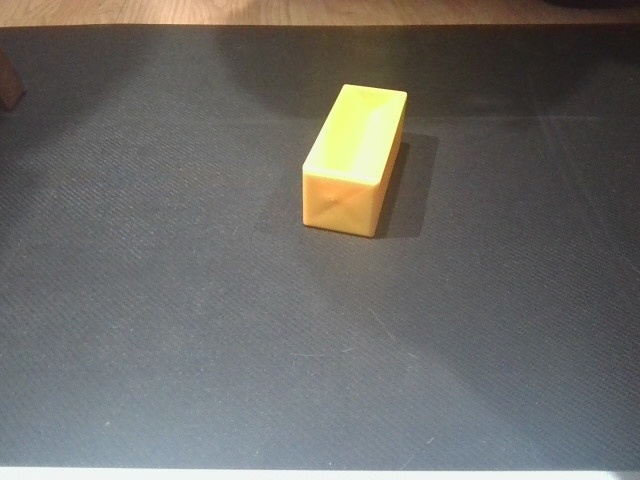YellowSample: (299, 79, 412, 243)
